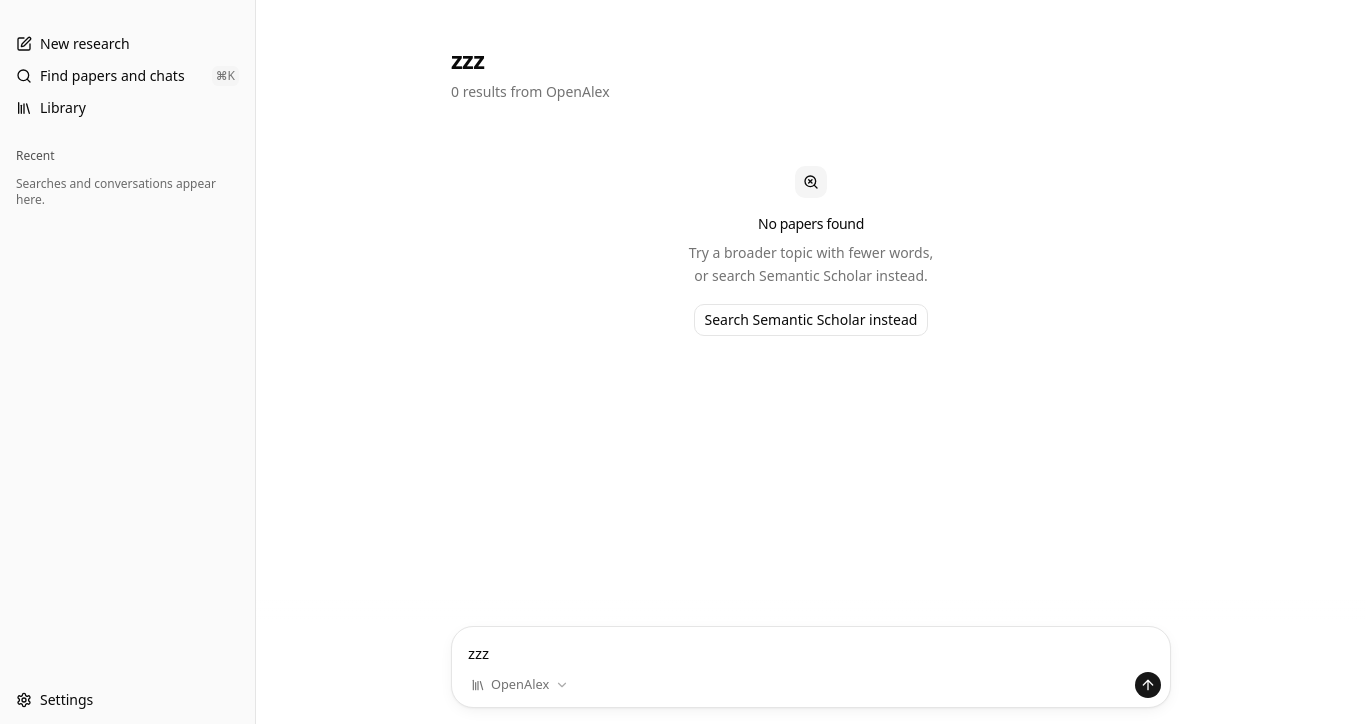
Test: Given no results, Then a broader topic or the other provider is suggested
The width and height of the screenshot is (1366, 724).
expect the heading "No papers found" is shown: met, box 758,214 -> 864,234
Click the button "Search Semantic Scholar instead" at (811, 320), box 694,304 -> 928,336
(page scrolled)
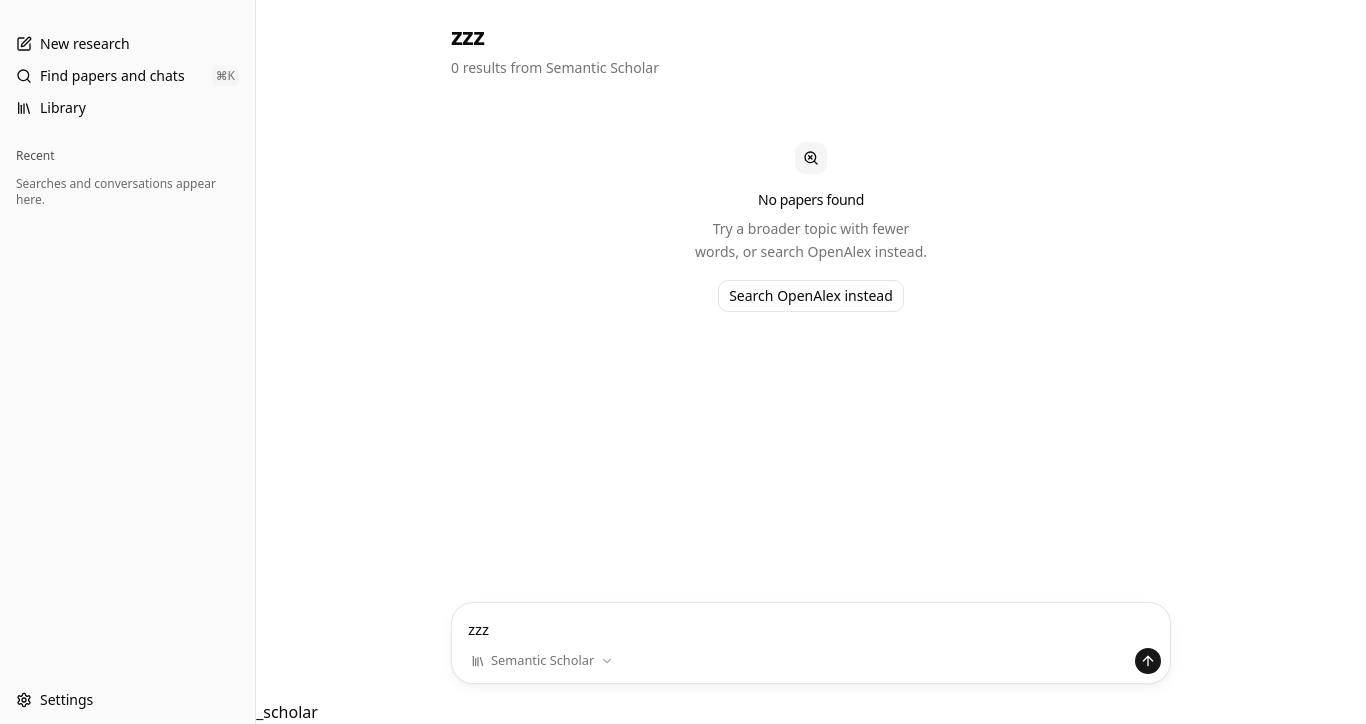
expect the text named "Location" reads "/search?q=zzz&provider=semantic_scholar": met, box 0,701 -> 318,723
